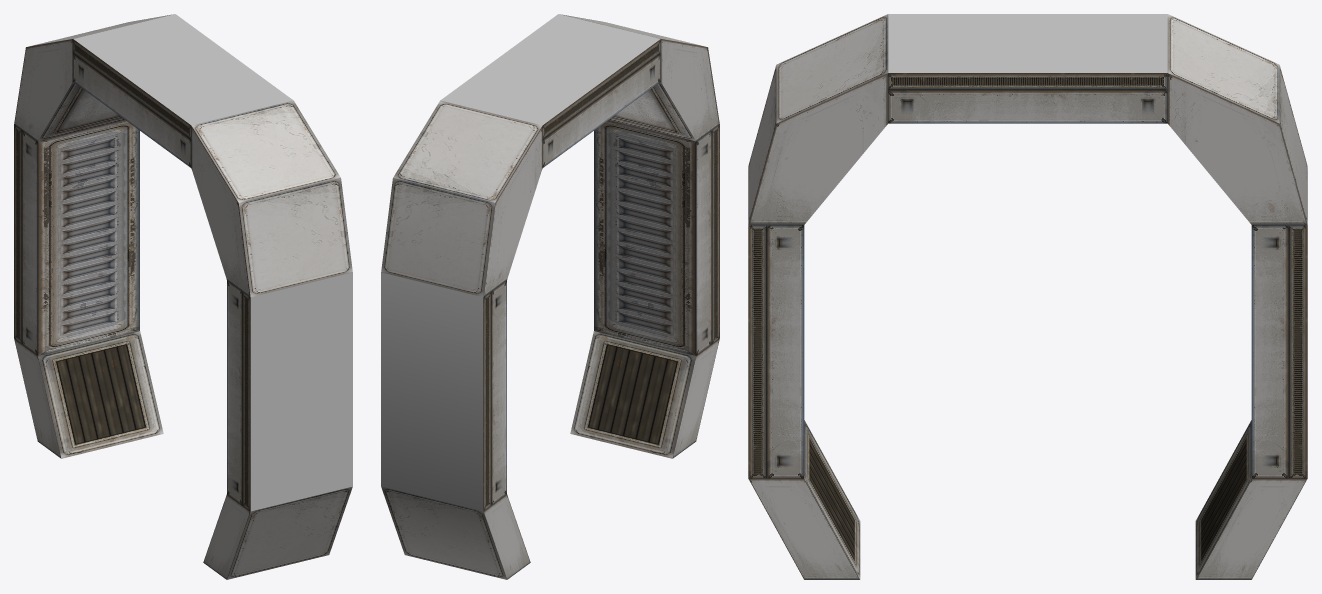
File: scifi_portal2.FBX
The picture shows the model from 3 angles, left to right: view 1: azimuth 30°, elevation 25°; view 2: azimuth 150°, elevation 25°; view 3: azimuth 270°, elevation 25°; orthographic projection. The views are drawn at different scales.
Visible parts, largest first — view 1: Box009; view 2: Box009; view 3: Box009.
Boxes of the visible parts, x1,y1,x2,y2 form: Box009: (14,14,352,579); Box009: (381,14,719,579); Box009: (748,14,1307,579).
Bounding box in the file's own units: 127 × 508 × 508.
